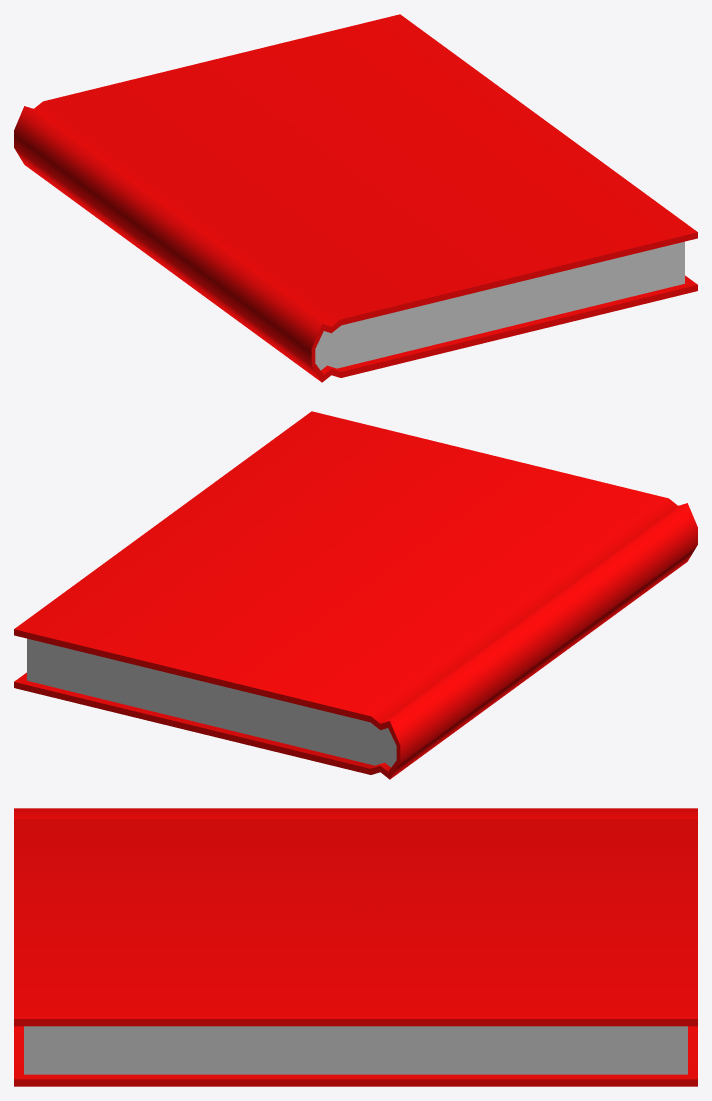
Rendered from Her_Book2_ZW.fbx.
The picture shows the model from 3 angles, top to bottom: view 1: azimuth 30°, elevation 25°; view 2: azimuth 150°, elevation 25°; view 3: azimuth 270°, elevation 25°; orthographic projection. The views are drawn at different scales.
Visible parts, largest first — view 1: Box003; view 2: Box003; view 3: Box003.
Part boxes in pixels (bbox=[...]): Box003: bbox=[14, 14, 697, 382]; Box003: bbox=[14, 411, 697, 779]; Box003: bbox=[14, 808, 697, 1086].
Bounding box in the file's own units: 2.71 × 0.3936 × 3.61.
